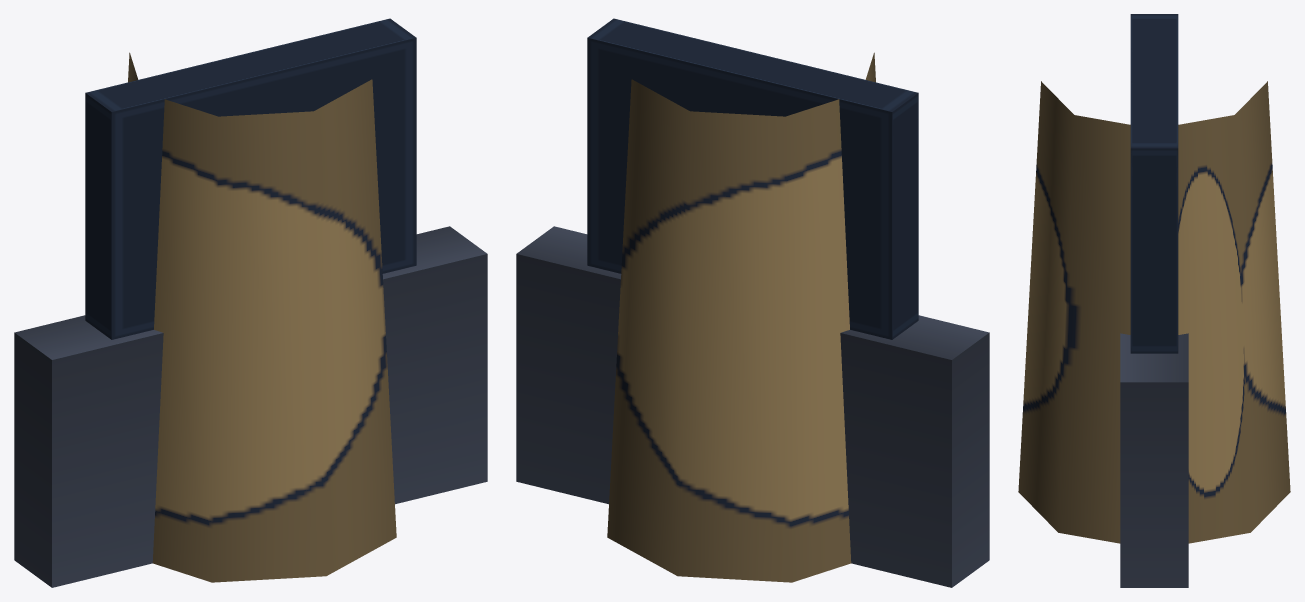
The model's file is KIT_Arch_Round_4.glb.
3 views of the same model, side by side, from view 1: azimuth 30°, elevation 25°; view 2: azimuth 150°, elevation 25°; view 3: azimuth 270°, elevation 25° (orthographic). The views are drawn at different scales.
Parts seen in each view (by area): view 1: KIT_Arch_Round_4; view 2: KIT_Arch_Round_4; view 3: KIT_Arch_Round_4.
Boxes of the visible parts, x1,y1,x2,y2 form: KIT_Arch_Round_4: [14, 18, 487, 587]; KIT_Arch_Round_4: [516, 18, 989, 587]; KIT_Arch_Round_4: [1018, 14, 1290, 587].
Bounding box in the file's own units: 4 × 4 × 2.4.
Materials: 1 (1 with a texture image).
